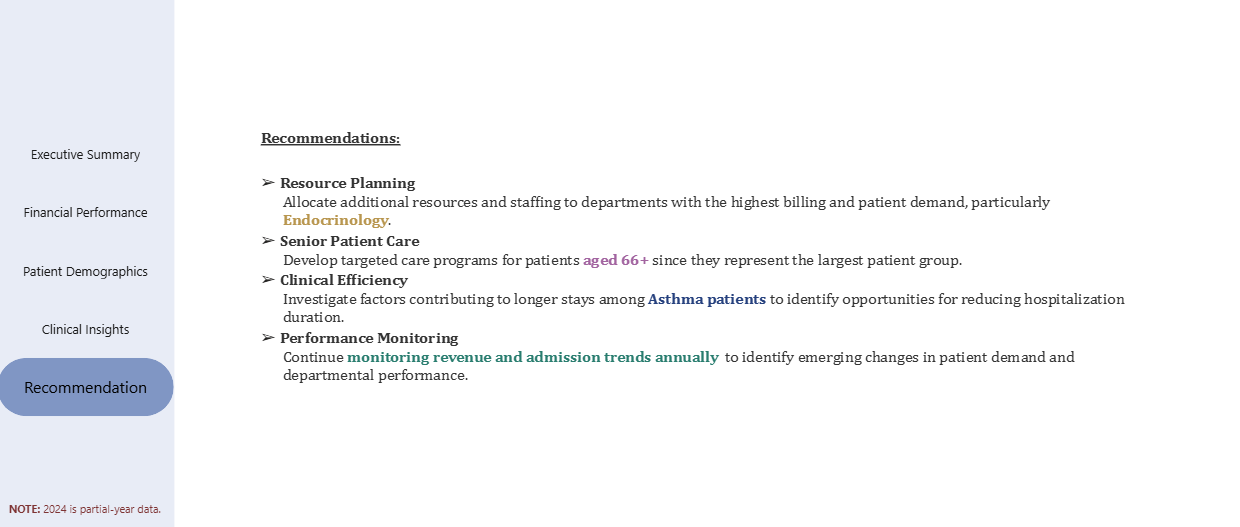

The dashboard page shown, as its layout file describes it:
{"tool":"powerbi","page":{"name":"Recommendation","canvas":[1680,720],"ordinal":4},"visuals":[{"type":"shape","box":[0,0,239.7,775],"z":0},{"type":"pageNavigator","box":[0,172.1,239.7,395.6],"z":1000},{"type":"textbox","box":[10.8,675.7,218.9,29.7],"z":2000},{"type":"textbox","box":[336.5,171.6,1231.1,421.6],"z":3000}]}

Visuals, with their boxes on the page's 1680x720 design canvas (x1, y1, x2, y2). These are canvas units, not pixel positions in the 1240x527 screenshot, which may show the page scaled, cropped or inside an application window:
shape: (left=0, top=0, right=240, bottom=775)
pageNavigator: (left=0, top=172, right=240, bottom=568)
textbox: (left=11, top=676, right=230, bottom=705)
textbox: (left=336, top=172, right=1568, bottom=593)
